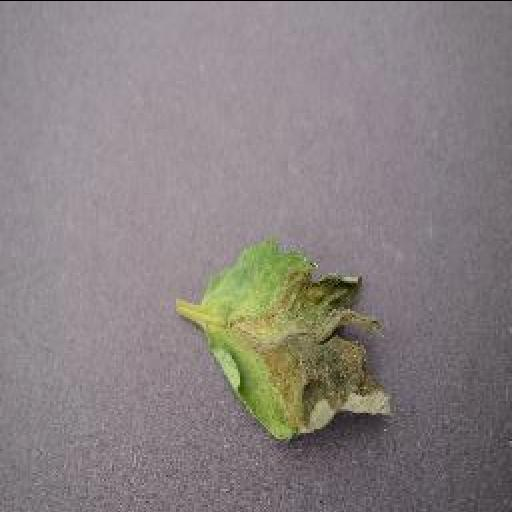disease_tomato: (198, 242, 394, 440)
